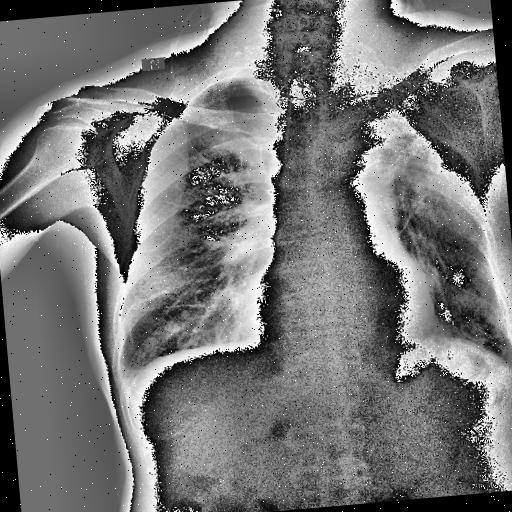1- Atelectasis: (331, 64, 479, 226), (356, 90, 478, 200)
10- Pleural effusion: (112, 354, 144, 392)
11- Pleural thickening: (118, 358, 154, 406), (116, 361, 150, 404), (112, 354, 144, 392)
13- Pulmonary fibrosis: (356, 90, 478, 200), (122, 290, 206, 340), (125, 284, 216, 314), (129, 284, 183, 306)
4- Consolidation: (330, 64, 464, 177)
6- Infiltration: (429, 316, 512, 376)
